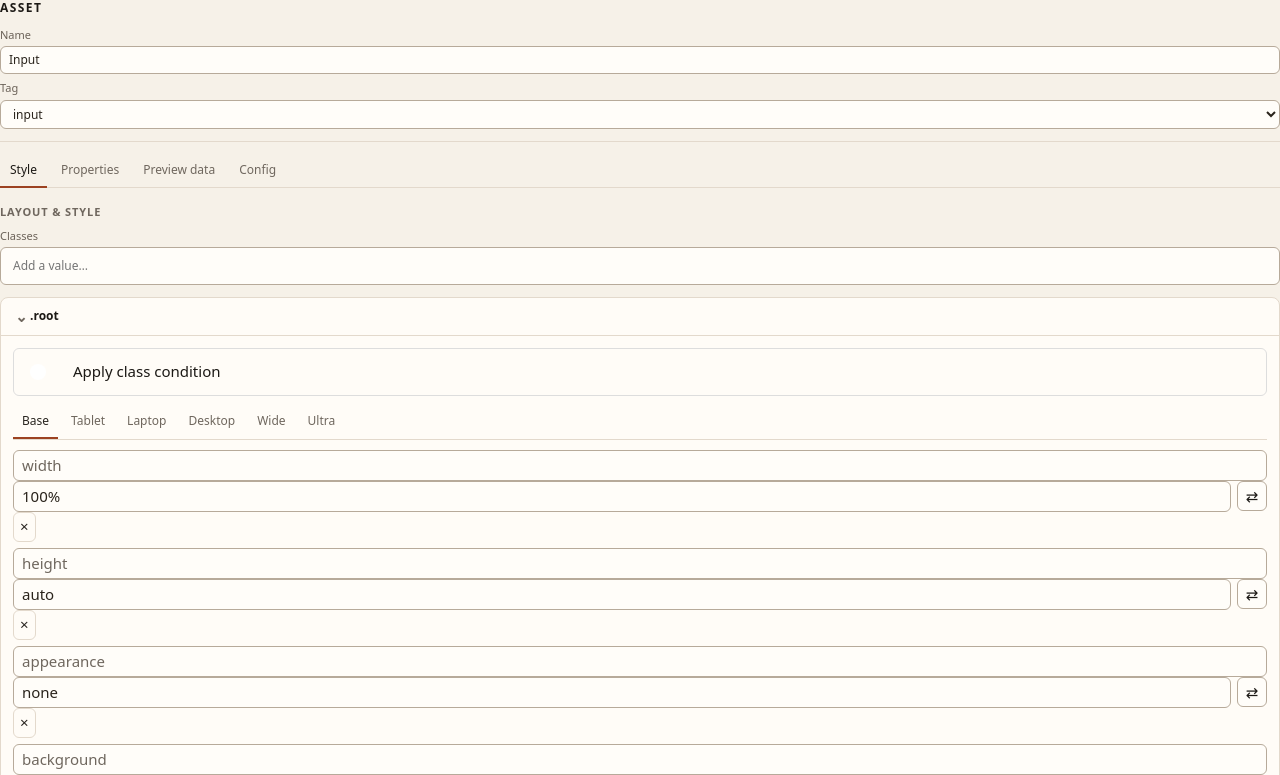
it: catalog inspector tabs › shows the active Style and Properties tabs for a catalog element
Expected: the panel "style" shows "Layout & style", [0,204,101,219]
Click the tab "Properties": (90, 171) [51,154,129,188]
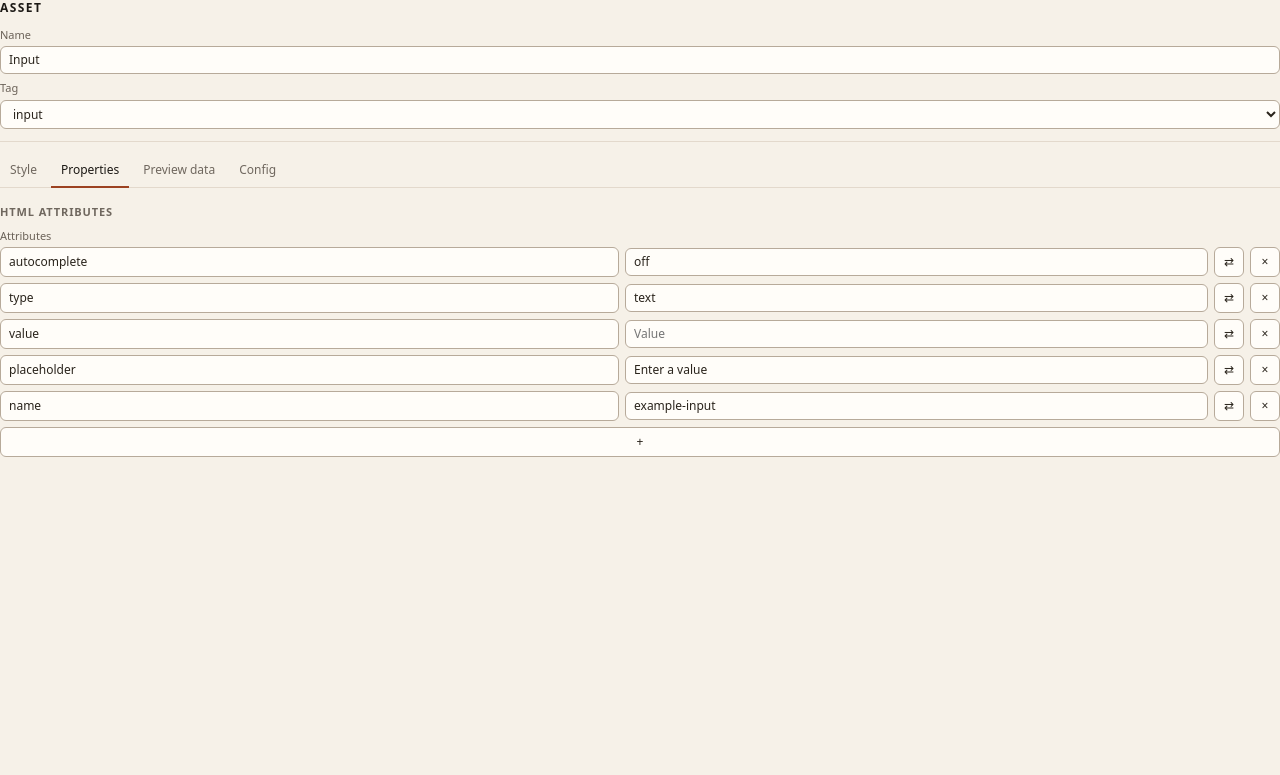
Result: the panel named "Properties" shows "HTML attributes" at [0,204,113,219]
